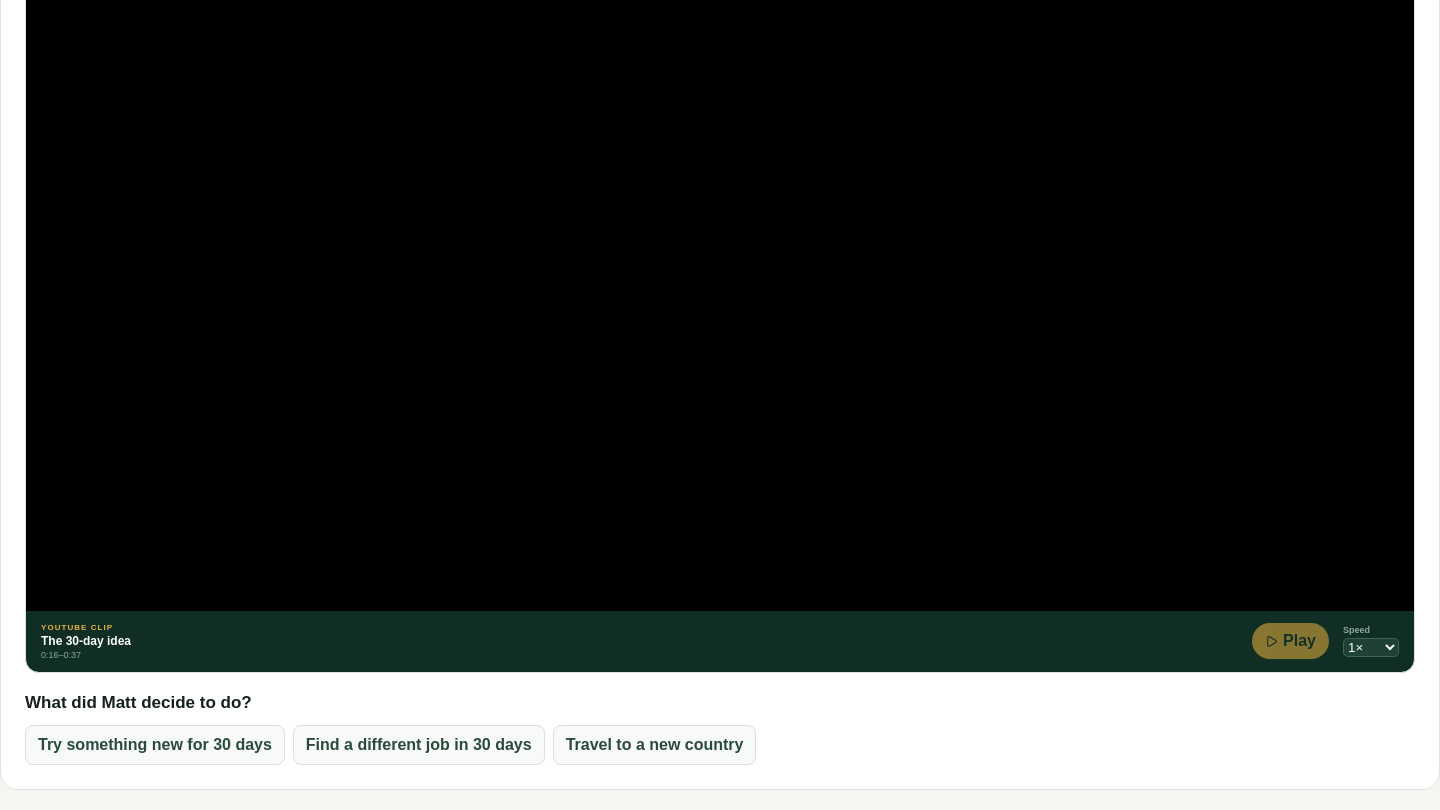
it: video-led activities › moves from gist listening to chunk reconstruction
(page scrolled)
Click the button "Try something new for 30 days" at point(155, 745), box [25, 725, 285, 765]
(page scrolled)
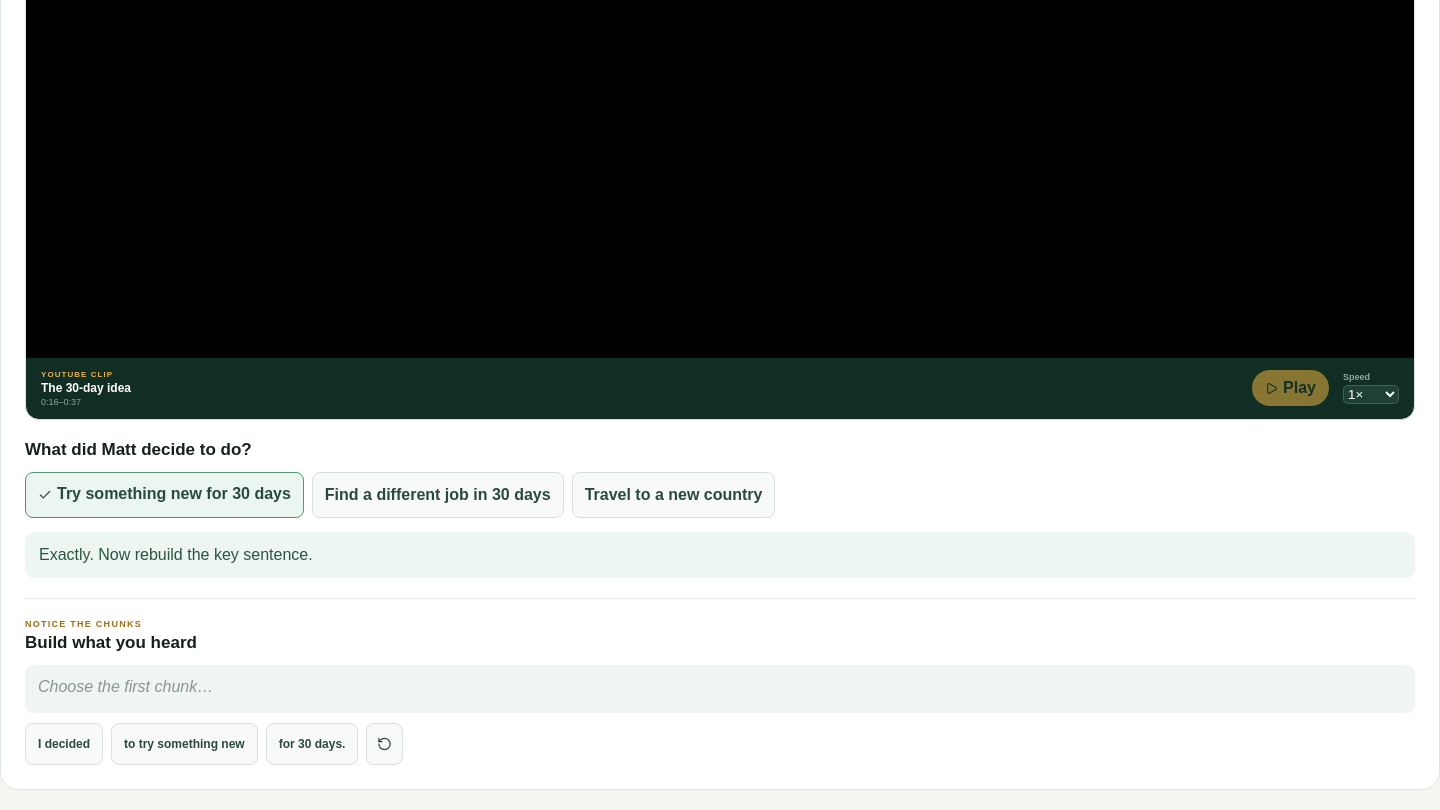
Expected: the text "Exactly. Now rebuild the key sentence." is shown, [25, 532, 1415, 578]
Click the button "I decided" at point(64, 744), box [25, 723, 103, 765]
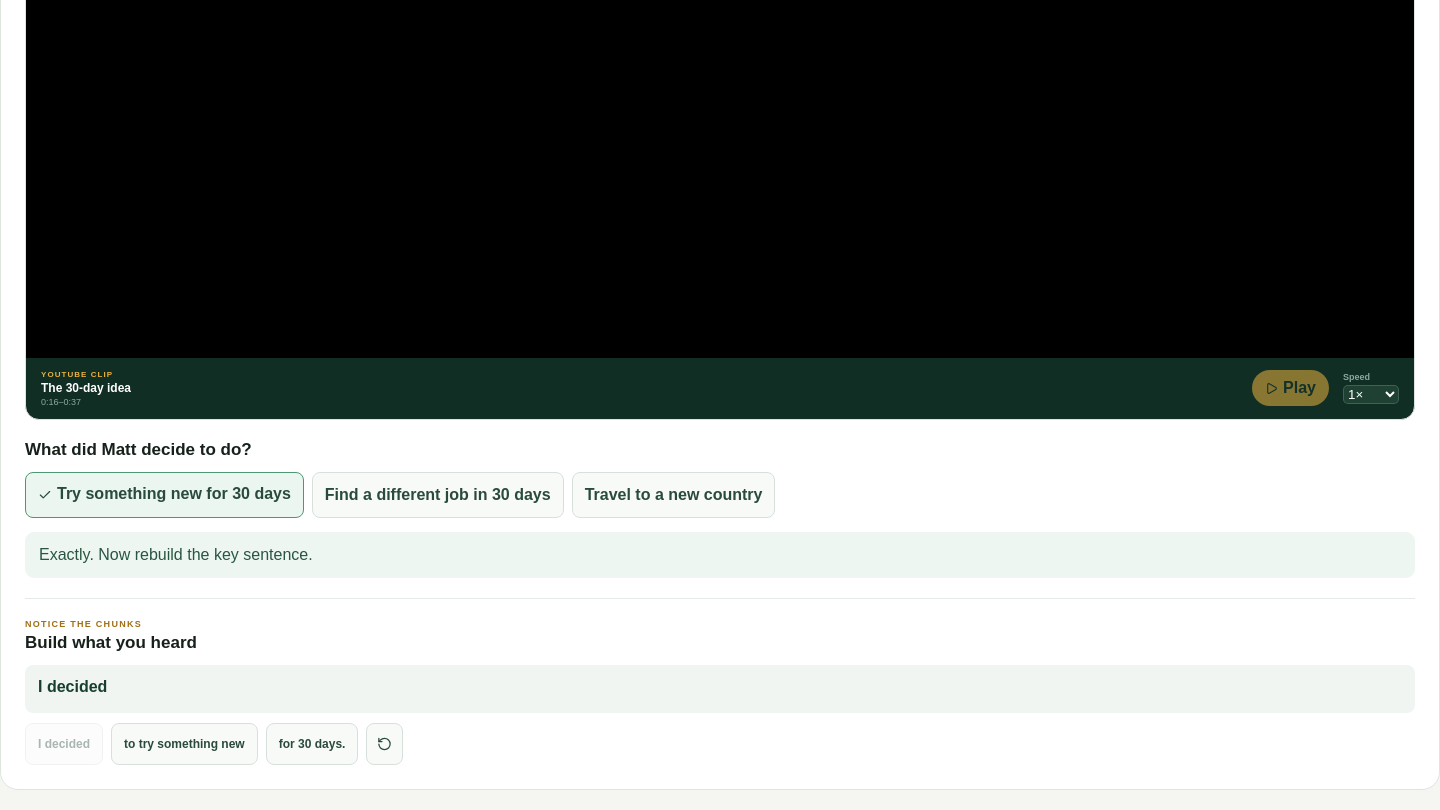
Click the button "to try something new" at point(184, 744), box [111, 723, 258, 765]
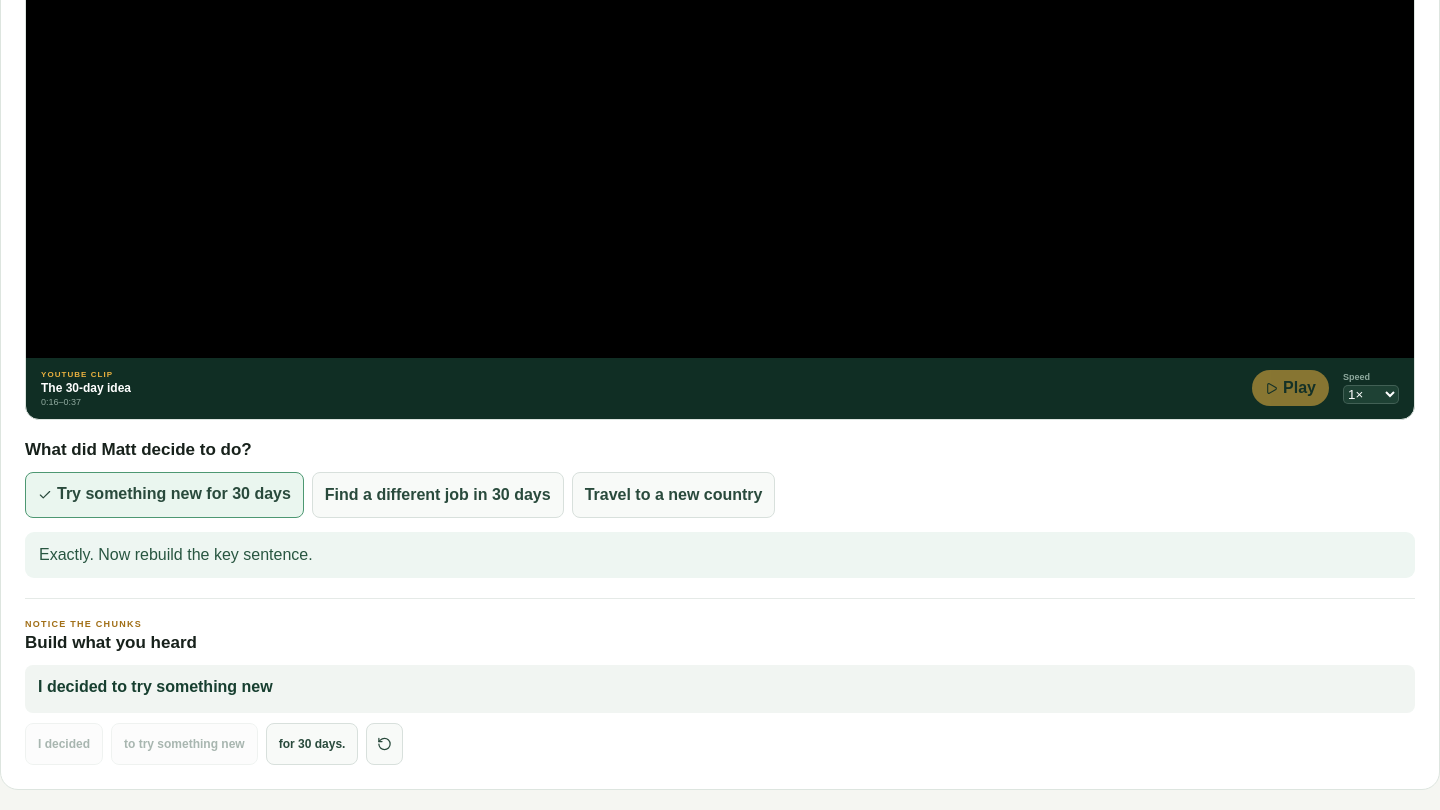
Click the button "for 30 days." at point(312, 744), box [266, 723, 358, 765]
(page scrolled)
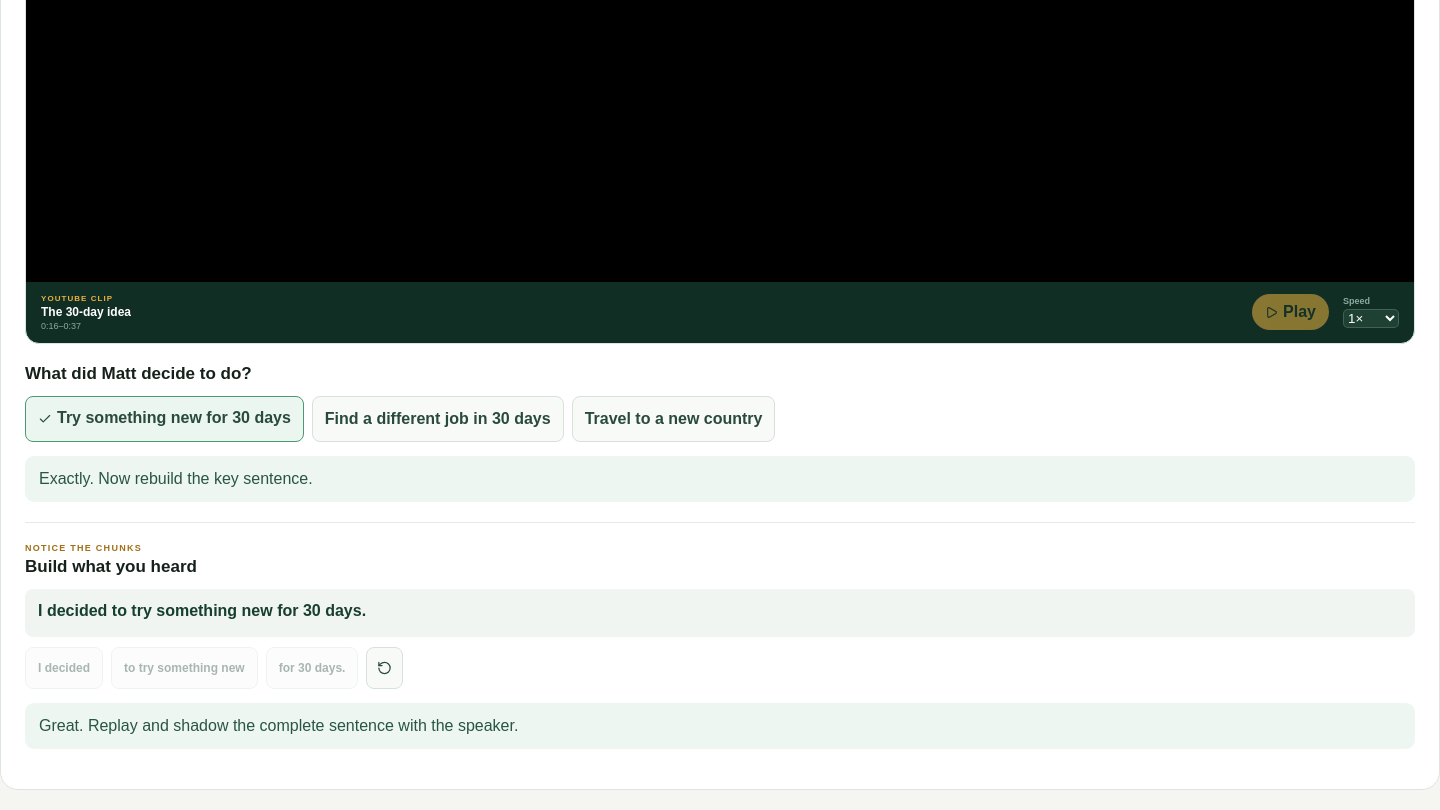
Expected: the text "shadow the complete sentence" is shown, [39, 717, 518, 734]
